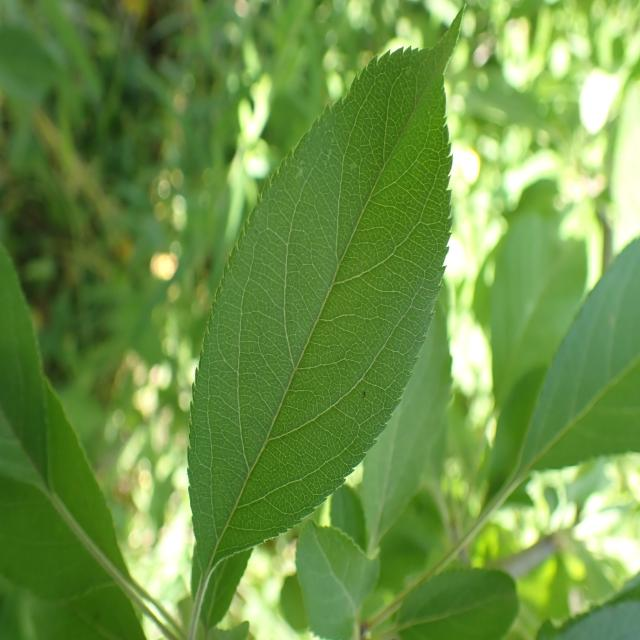healthy: (188, 3, 464, 616), (0, 245, 147, 637), (522, 234, 640, 472), (360, 288, 452, 559), (295, 522, 380, 640), (396, 565, 520, 640)
